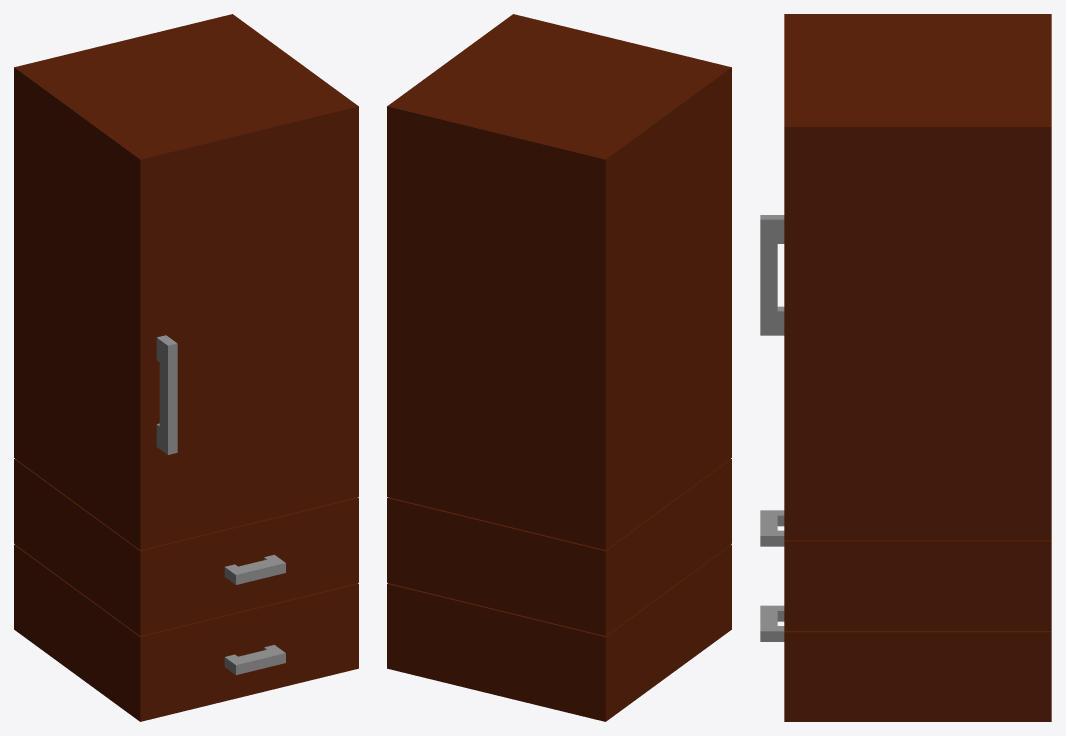
The model's file is ArmarioOFicina.FBX.
The picture shows the model from 3 angles, left to right: view 1: azimuth 30°, elevation 25°; view 2: azimuth 150°, elevation 25°; view 3: azimuth 270°, elevation 25°; orthographic projection. The views are drawn at different scales.
Visible parts, largest first — view 1: Armario; view 2: Armario; view 3: Armario.
Boxes of the visible parts, x1=… form: Armario: x1=14, y1=14, x2=358, y2=721; Armario: x1=387, y1=14, x2=731, y2=721; Armario: x1=760, y1=14, x2=1051, y2=721.
Bounding box in the file's own units: 2.8 × 6.87 × 3.05.
